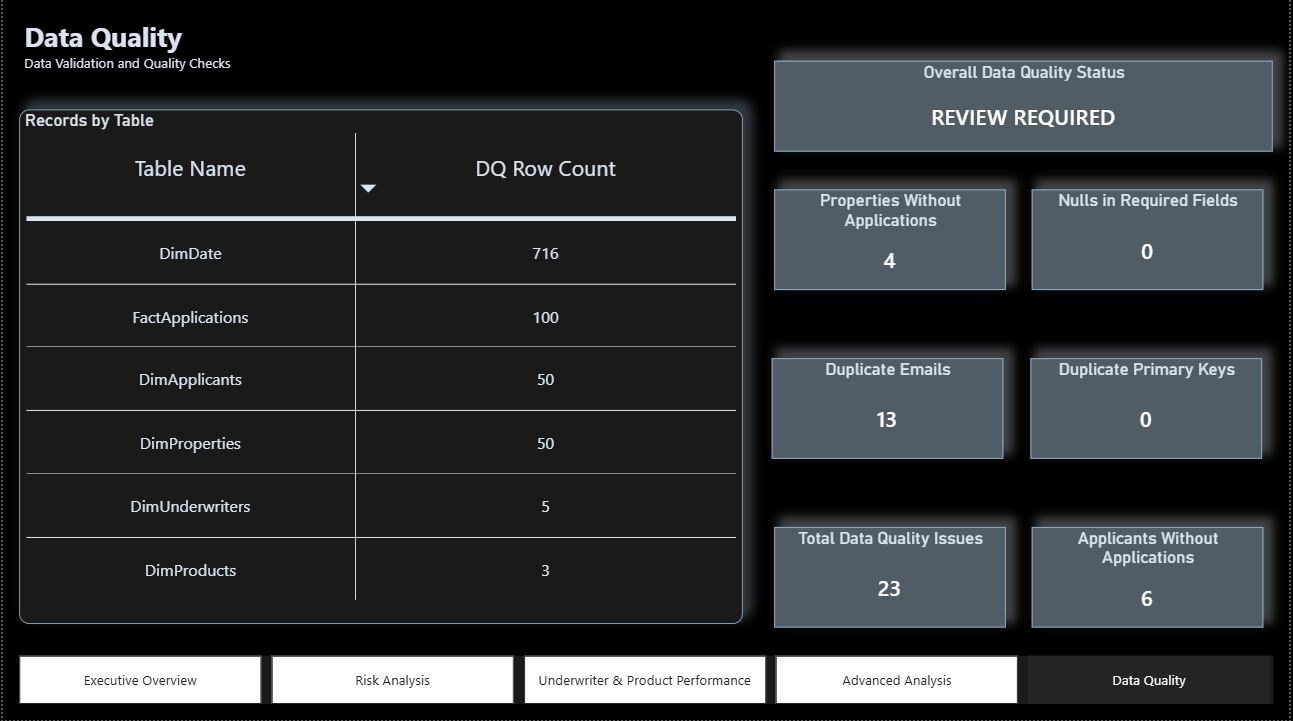

Layout of this report page (visuals, bound fields, positions):
{"tool":"powerbi","page":{"name":"Data Quality","canvas":[1280,720],"ordinal":4},"visuals":[{"type":"textbox","box":[16,16,432,64],"z":0},{"type":"tableEx","title":"Records by Table","fields":{"Values":["DQ Tables.Table Name","_Measures.DQ Row Count"]},"box":[16,112,720,512],"z":1000},{"type":"cardVisual","title":"Nulls in Required Fields","fields":{"Data":["_Measures.DQ Null Required Fields"]},"box":[1024,192,230,100],"z":2000},{"type":"cardVisual","title":"Duplicate Primary Keys","fields":{"Data":["_Measures.DQ Duplicate Keys"]},"box":[1022.8,360,230,100],"z":3000},{"type":"cardVisual","title":"Applicants Without Applications","fields":{"Data":["_Measures.DQ Applicants Without Applications"]},"box":[1024,528,230,100],"z":4000},{"type":"cardVisual","title":"Properties Without Applications","fields":{"Data":["_Measures.DQ Properties Without Applications"]},"box":[768,192,230,100],"z":5000},{"type":"cardVisual","title":"Duplicate Emails","fields":{"Data":["_Measures.DQ Duplicate Emails"]},"box":[765.5,360,230,100],"z":6000},{"type":"cardVisual","title":"Total Data Quality Issues","fields":{"Data":["_Measures.DQ Total Issues"]},"box":[768,528,230,100],"z":7000},{"type":"cardVisual","title":"Overall Data Quality Status","fields":{"Data":["_Measures.DQ Overall Status"]},"box":[768,64,496,90],"z":8000},{"type":"pageNavigator","box":[16,656,1248,48],"z":8001}]}

Visuals, with their boxes in screenshot pixels (x1, y1, x2, y2), scaled from the page's 1280x720 canvas onto the 1293x721 screenshot:
textbox: {"x1": 16, "y1": 16, "x2": 453, "y2": 80}
"Records by Table" tableEx: {"x1": 16, "y1": 112, "x2": 743, "y2": 625}
"Nulls in Required Fields" cardVisual: {"x1": 1034, "y1": 192, "x2": 1267, "y2": 292}
"Duplicate Primary Keys" cardVisual: {"x1": 1033, "y1": 360, "x2": 1266, "y2": 461}
"Applicants Without Applications" cardVisual: {"x1": 1034, "y1": 529, "x2": 1267, "y2": 629}
"Properties Without Applications" cardVisual: {"x1": 776, "y1": 192, "x2": 1008, "y2": 292}
"Duplicate Emails" cardVisual: {"x1": 773, "y1": 360, "x2": 1006, "y2": 461}
"Total Data Quality Issues" cardVisual: {"x1": 776, "y1": 529, "x2": 1008, "y2": 629}
"Overall Data Quality Status" cardVisual: {"x1": 776, "y1": 64, "x2": 1277, "y2": 154}
pageNavigator: {"x1": 16, "y1": 657, "x2": 1277, "y2": 705}
